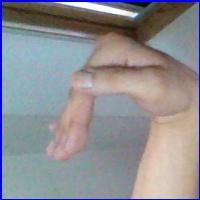del: (38, 28, 185, 171)
